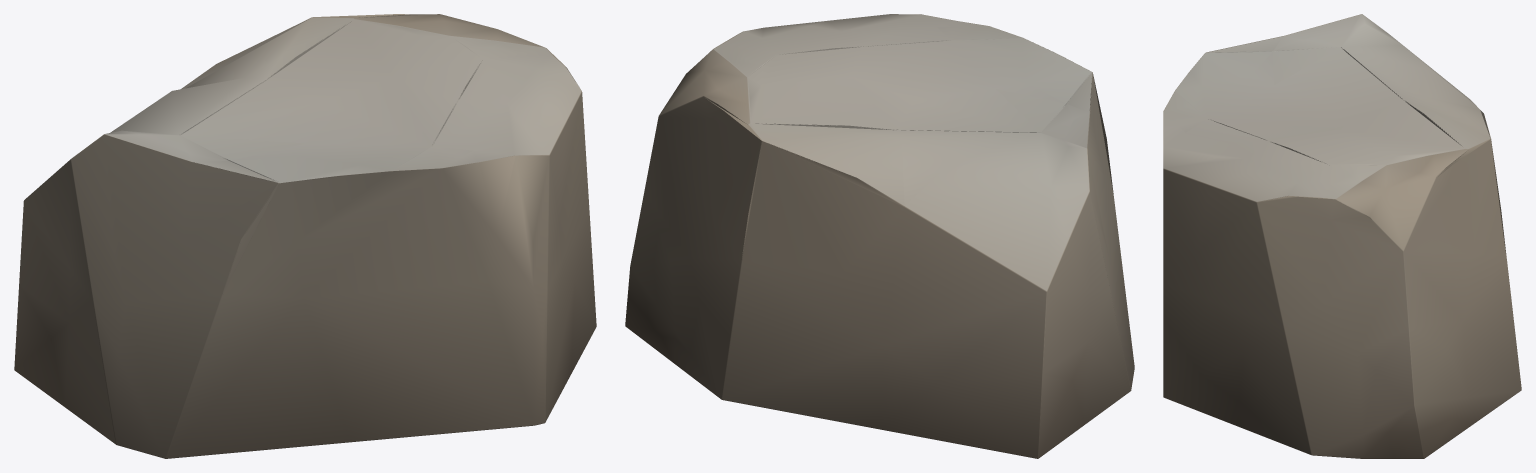
Rendered from glade_stepping_stone_a.glb.
3 views of the same model, side by side, from view 1: azimuth 30°, elevation 25°; view 2: azimuth 150°, elevation 25°; view 3: azimuth 270°, elevation 25° (orthographic). The views are drawn at different scales.
Visible parts, largest first — view 1: glade_stepping_stone_a; view 2: glade_stepping_stone_a; view 3: glade_stepping_stone_a.
Boxes of the visible parts, <box> form: glade_stepping_stone_a: <box>14,14,596,458</box>; glade_stepping_stone_a: <box>625,14,1134,458</box>; glade_stepping_stone_a: <box>1163,14,1521,458</box>.
Bounding box in the file's own units: 2.75 × 1.54 × 2.01.
